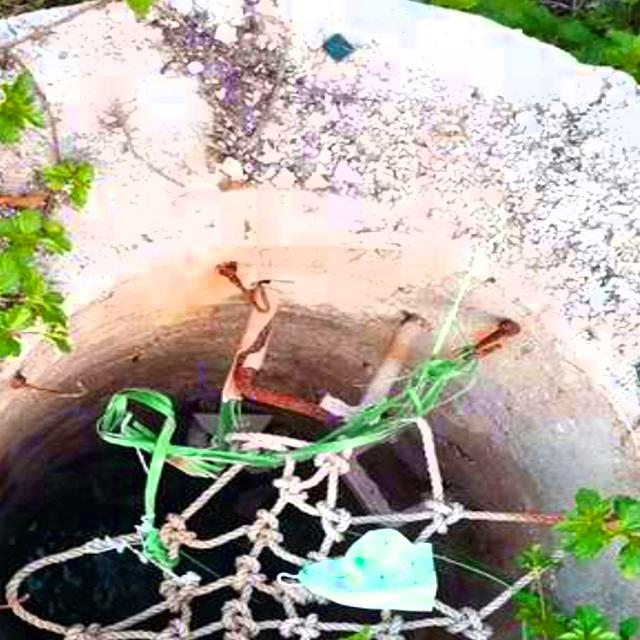lose: (0, 227, 640, 640)
